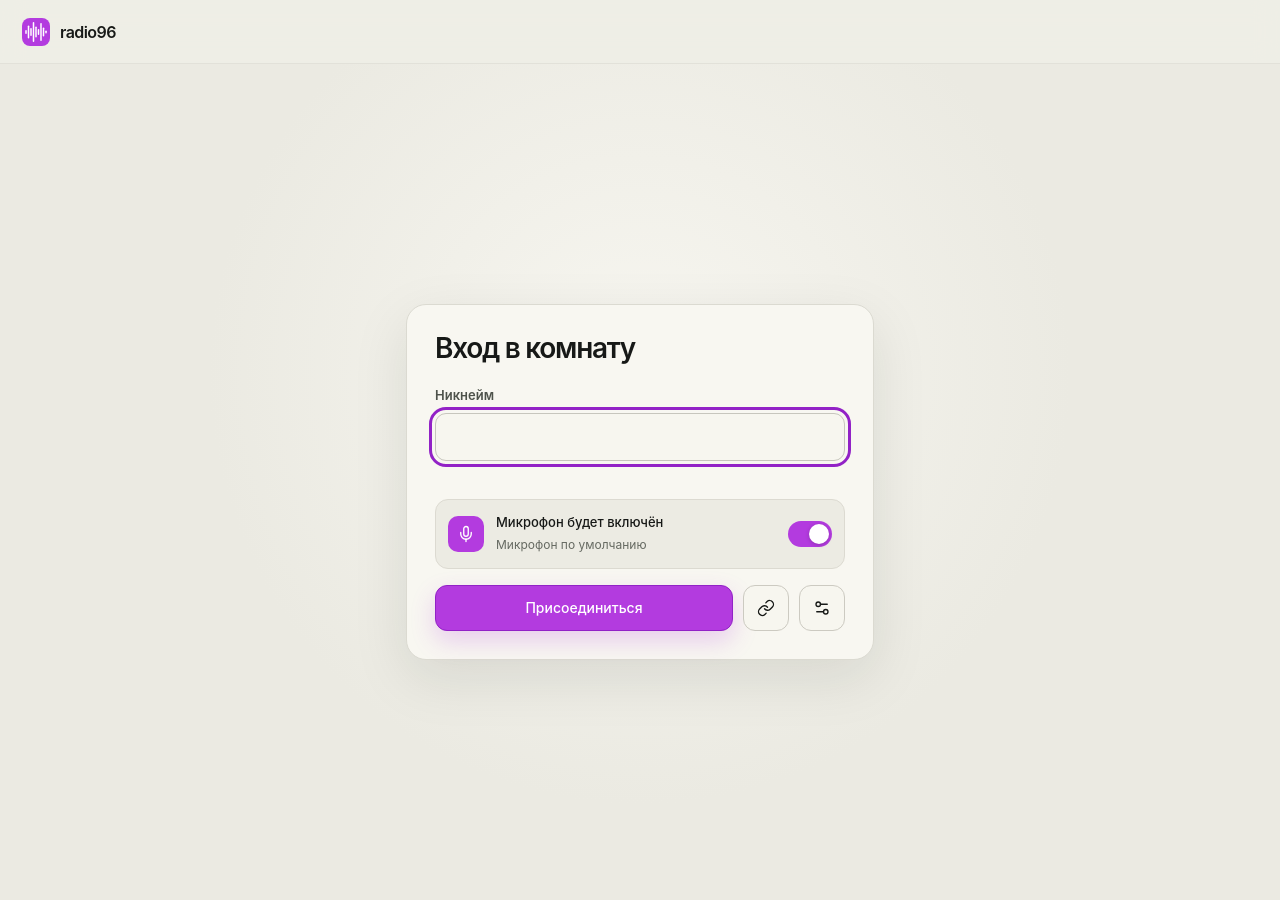
Scenario: brand navigation › returns home when clicking the icon
expect the heading "Вход в комнату" is shown: met, box [435, 331, 635, 365]
Click the icon with class "brand__mark". click: (36, 32)
box: [22, 18, 50, 46]
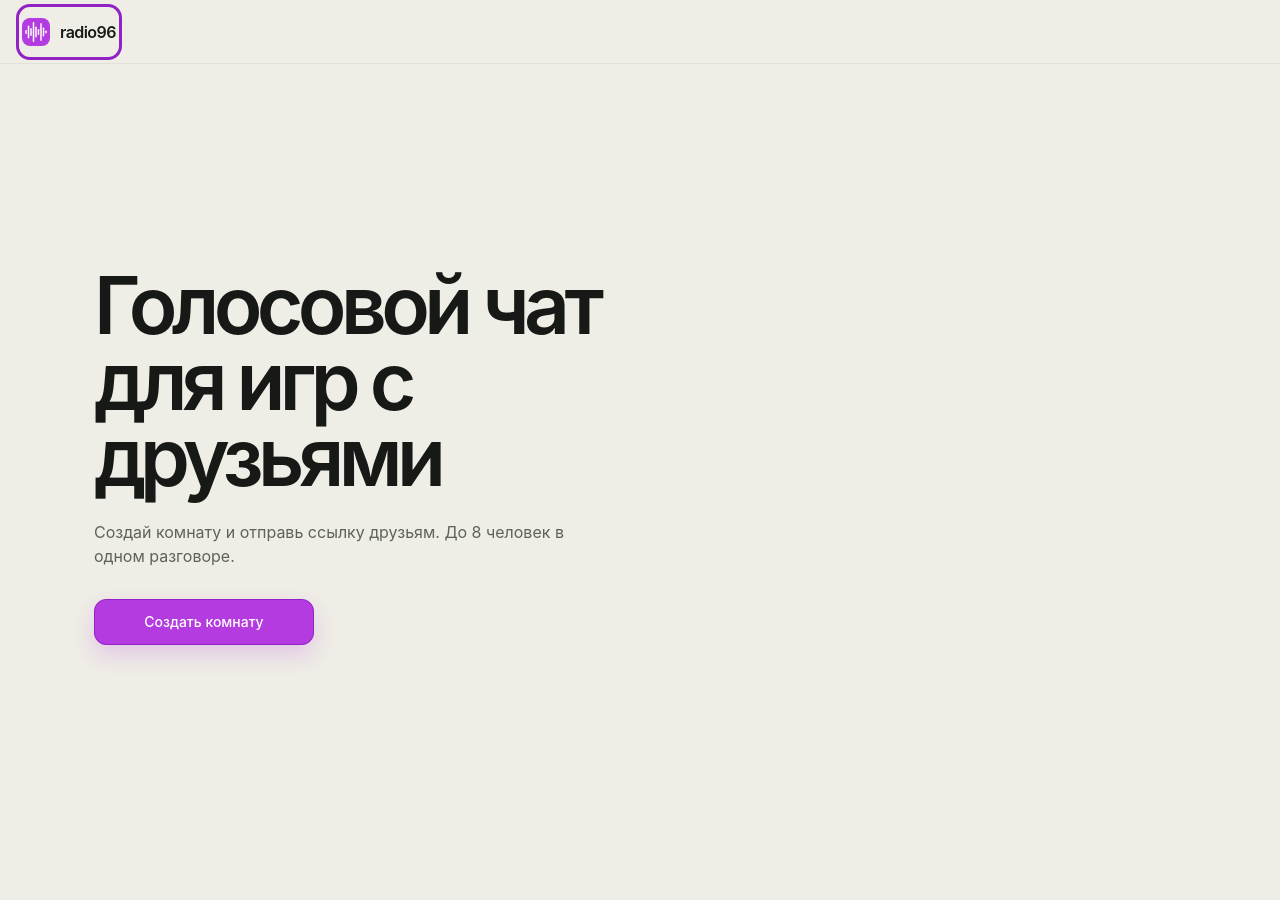
expect the text "radio96" is shown: met, box [60, 20, 116, 44]
expect the heading "Голосовой чат для игр с друзьями" is shown: met, box [94, 266, 644, 494]
